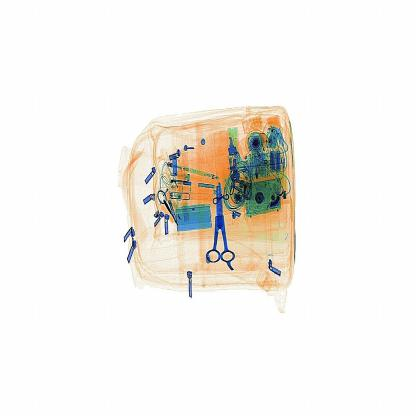gun: (196, 174, 244, 286)
